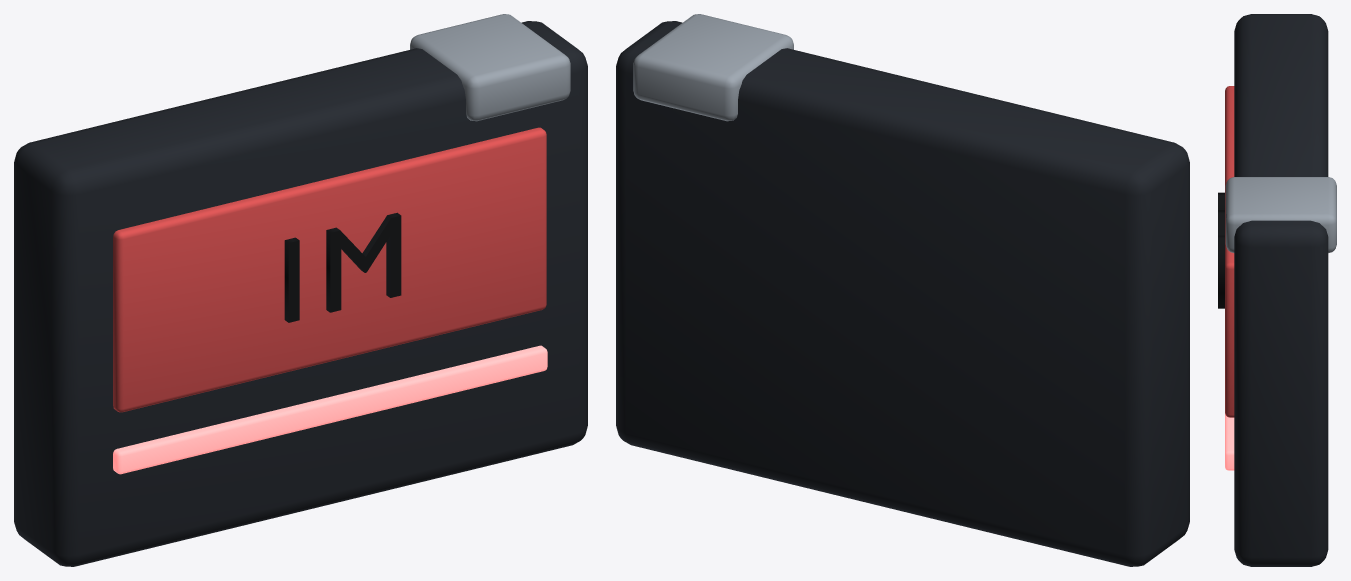
Rendered from rscDisk1m.fbx.
3 renders of one model, left to right at view 1: azimuth 30°, elevation 25°; view 2: azimuth 150°, elevation 25°; view 3: azimuth 270°, elevation 25°, orthographic. The views are drawn at different scales.
Visible parts, largest first — view 1: rscDisk1m_shell, rscDisk1m_label, rscDisk1m_stripe, rscDisk1m_grip, rscDisk1m_text; view 2: rscDisk1m_shell, rscDisk1m_grip; view 3: rscDisk1m_shell, rscDisk1m_grip, rscDisk1m_label, rscDisk1m_text, rscDisk1m_stripe.
Boxes of the visible parts, x1,y1,x2,y2 form: rscDisk1m_shell: [14, 21, 587, 566]; rscDisk1m_label: [113, 127, 546, 412]; rscDisk1m_stripe: [113, 345, 547, 474]; rscDisk1m_grip: [410, 14, 570, 121]; rscDisk1m_text: [284, 212, 401, 322]; rscDisk1m_shell: [616, 21, 1189, 566]; rscDisk1m_grip: [633, 14, 793, 121]; rscDisk1m_shell: [1234, 14, 1328, 566]; rscDisk1m_grip: [1225, 177, 1336, 252]; rscDisk1m_label: [1225, 86, 1234, 417]; rscDisk1m_text: [1218, 192, 1224, 308]; rscDisk1m_stripe: [1225, 413, 1234, 470].
Bounding box in the file's own units: 0.62 × 0.445 × 0.139.
